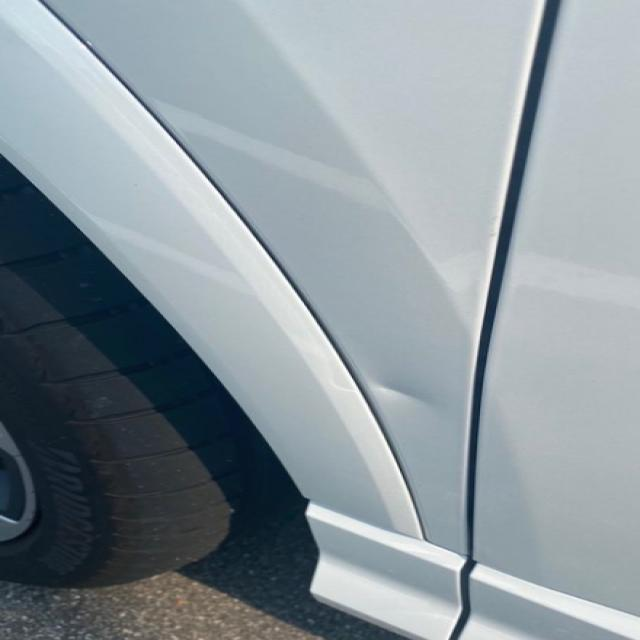dents: (347, 348, 462, 436)
